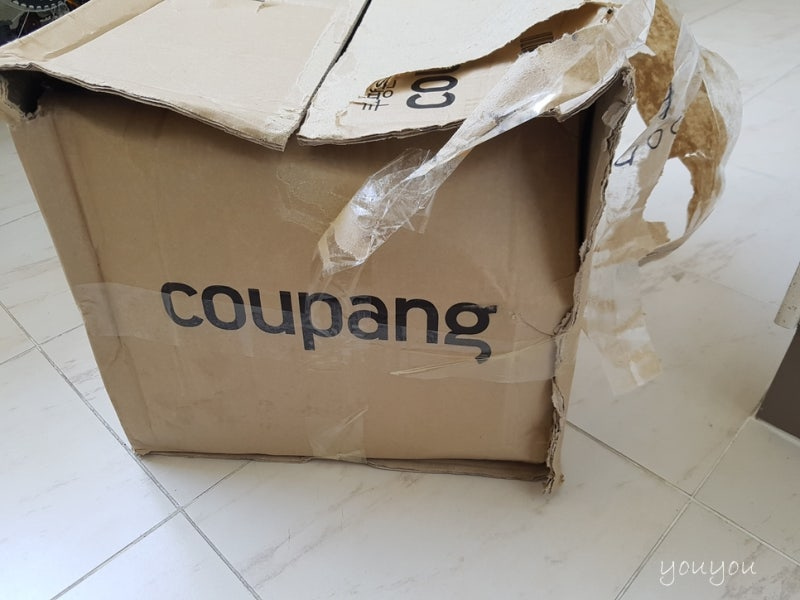damaged package: (329, 31, 682, 249), (0, 53, 288, 153), (380, 0, 632, 92)
